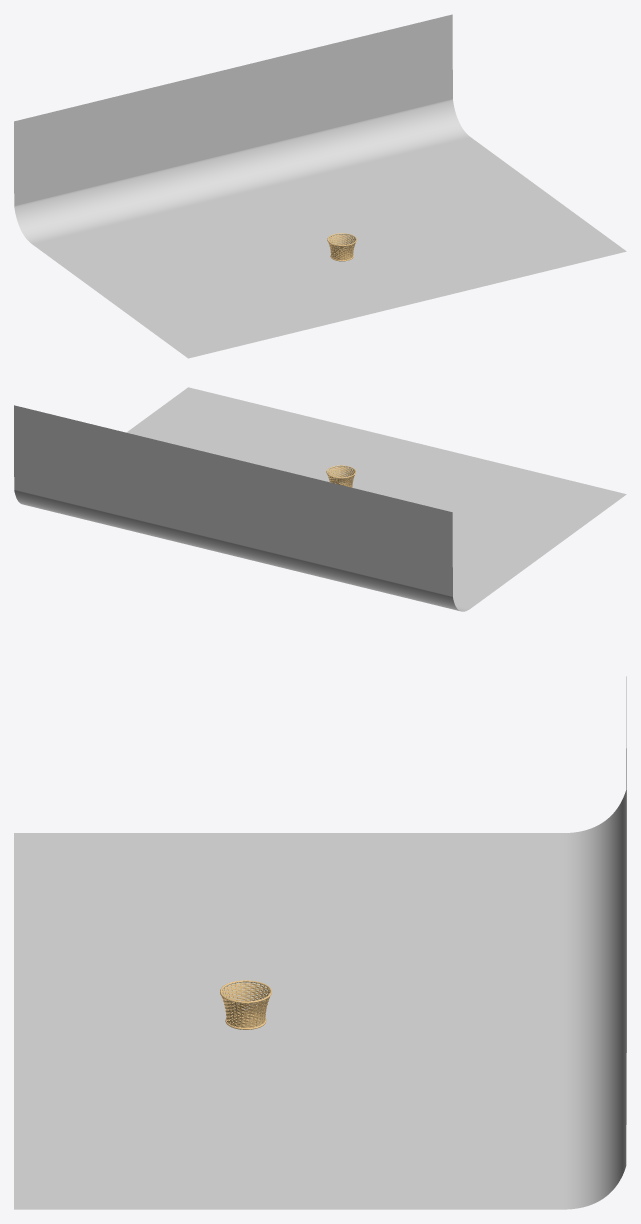
The model's file is uploads_files_598787_Basket.fbx.
The picture shows the model from 3 angles, top to bottom: view 1: azimuth 30°, elevation 25°; view 2: azimuth 150°, elevation 25°; view 3: azimuth 270°, elevation 25°; orthographic projection. The views are drawn at different scales.
Parts seen in each view (by area): view 1: Loft_NURBS, Basket; view 2: Loft_NURBS, Basket; view 3: Loft_NURBS, Basket.
Boxes of the visible parts, bbox=[...] form: Loft_NURBS: bbox=[14, 14, 626, 358]; Basket: bbox=[327, 233, 356, 261]; Loft_NURBS: bbox=[14, 387, 626, 611]; Basket: bbox=[326, 465, 355, 487]; Loft_NURBS: bbox=[14, 676, 626, 1209]; Basket: bbox=[220, 980, 271, 1029].
Bounding box in the file's own units: 4609 × 1100 × 3171.
Materials: 2 (1 with a texture image).
